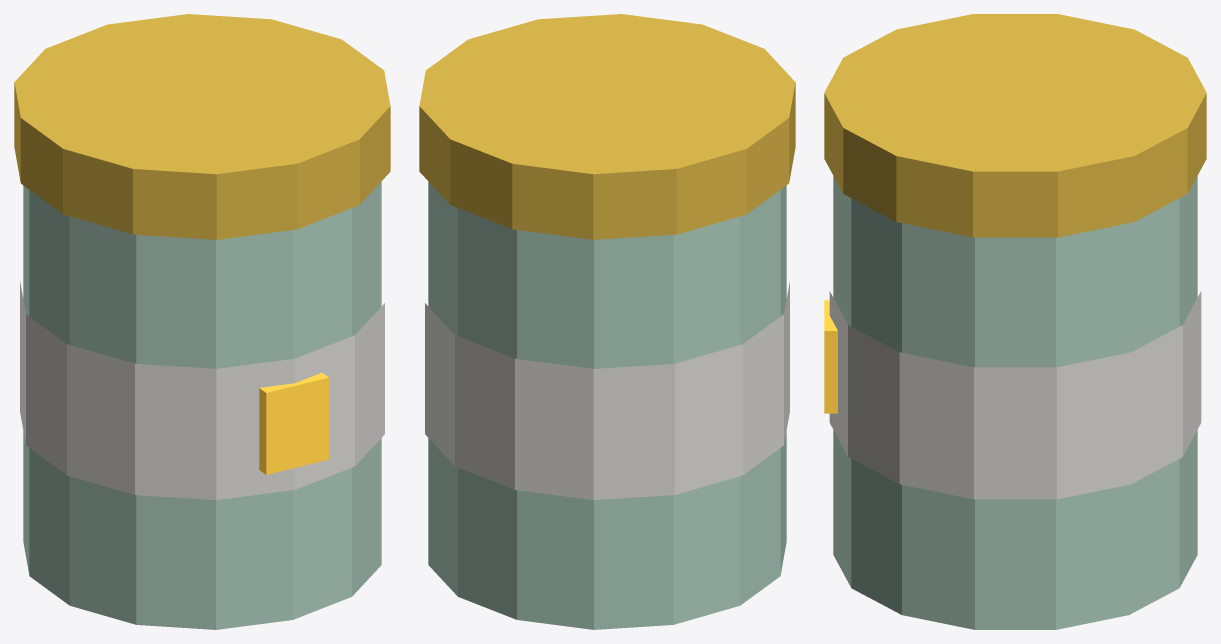
The model's file is gym_shake_jar.glb.
The picture shows the model from 3 angles, left to right: view 1: azimuth 30°, elevation 25°; view 2: azimuth 150°, elevation 25°; view 3: azimuth 270°, elevation 25°; orthographic projection.
Visible parts, largest first — view 1: jar_jar_glass, lid_jar_lid, label_white, label_trophy_gold; view 2: jar_jar_glass, lid_jar_lid, label_white; view 3: jar_jar_glass, lid_jar_lid, label_white, label_trophy_gold.
Boxes of the visible parts, left/top/right/bottom form: jar_jar_glass: left=23, top=181, right=381, bottom=629; lid_jar_lid: left=14, top=14, right=390, bottom=239; label_white: left=20, top=281, right=384, bottom=500; label_trophy_gold: left=259, top=373, right=328, bottom=474; jar_jar_glass: left=428, top=181, right=786, bottom=629; lid_jar_lid: left=419, top=14, right=795, bottom=239; label_white: left=425, top=281, right=789, bottom=500; jar_jar_glass: left=833, top=176, right=1197, bottom=629; lid_jar_lid: left=824, top=14, right=1206, bottom=237; label_white: left=829, top=291, right=1201, bottom=499; label_trophy_gold: left=824, top=300, right=837, bottom=413.
Bounding box in the file's own units: 0.2047 × 0.28 × 0.21.
